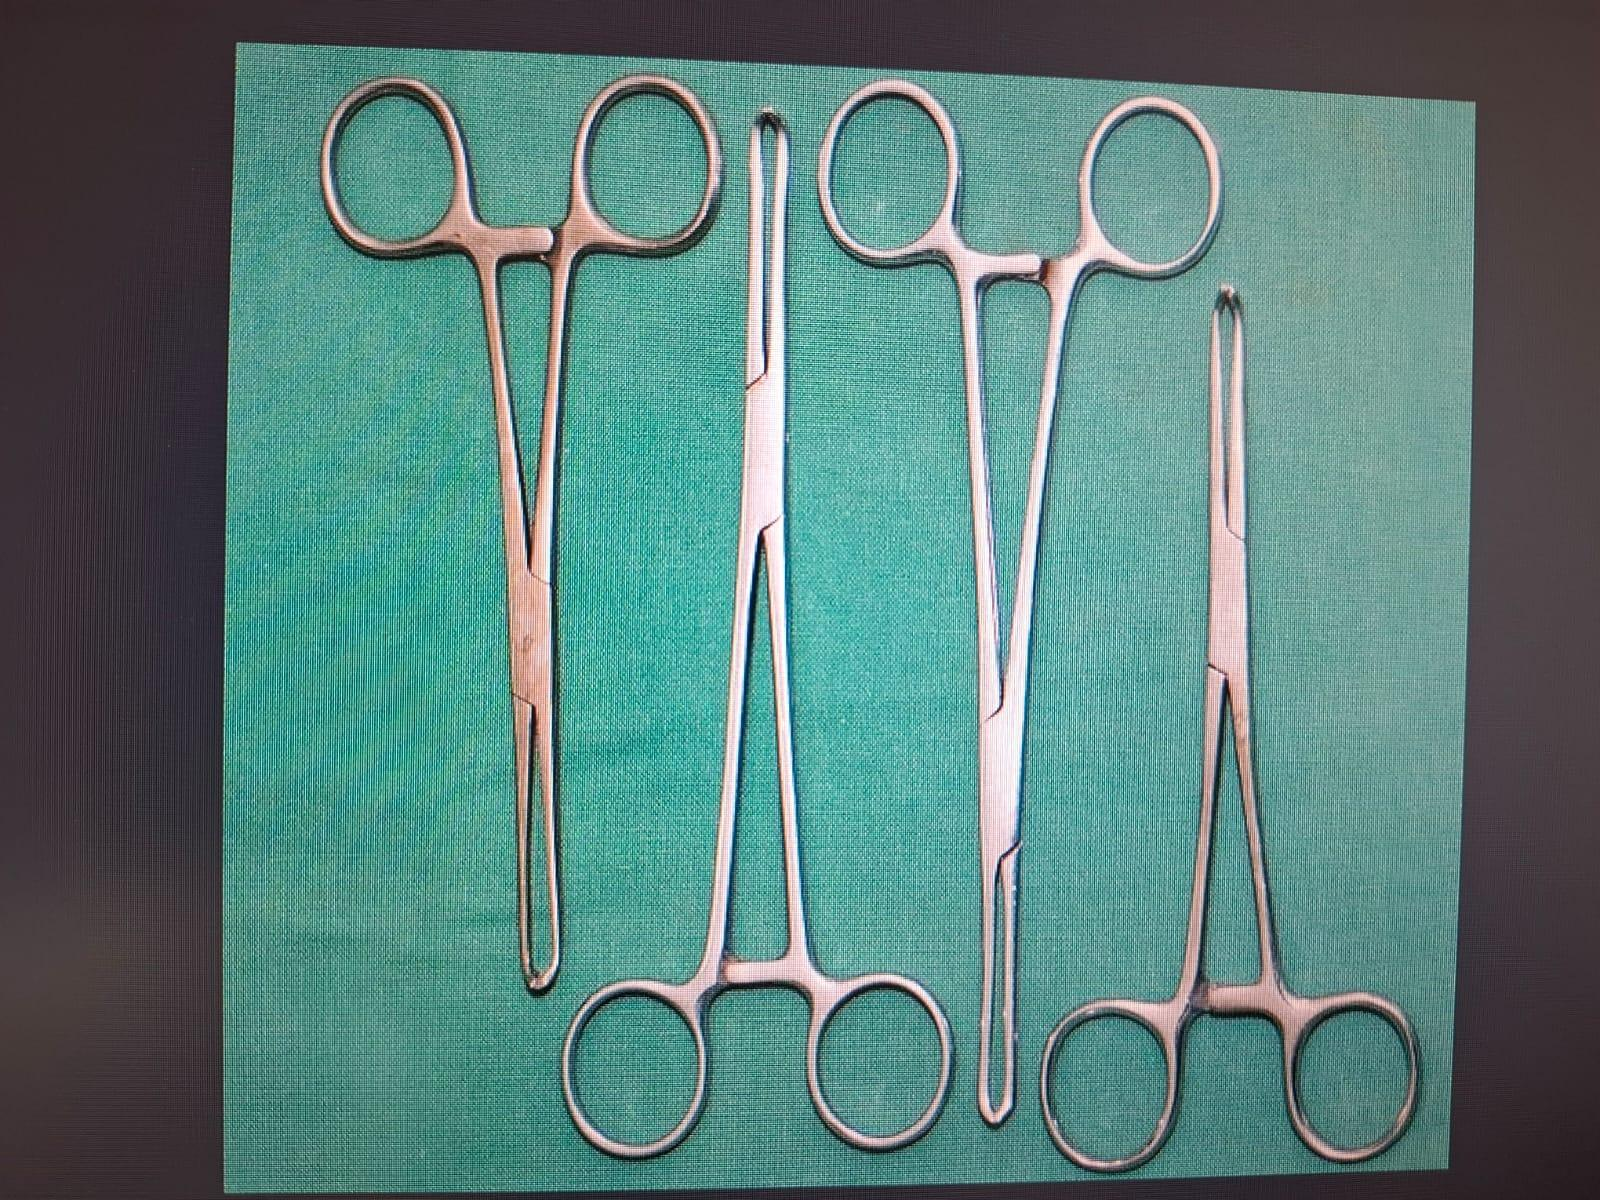Allis Forceps: (554, 94, 974, 1168), (816, 74, 1222, 1134), (302, 58, 724, 1016), (1022, 276, 1448, 1172)
